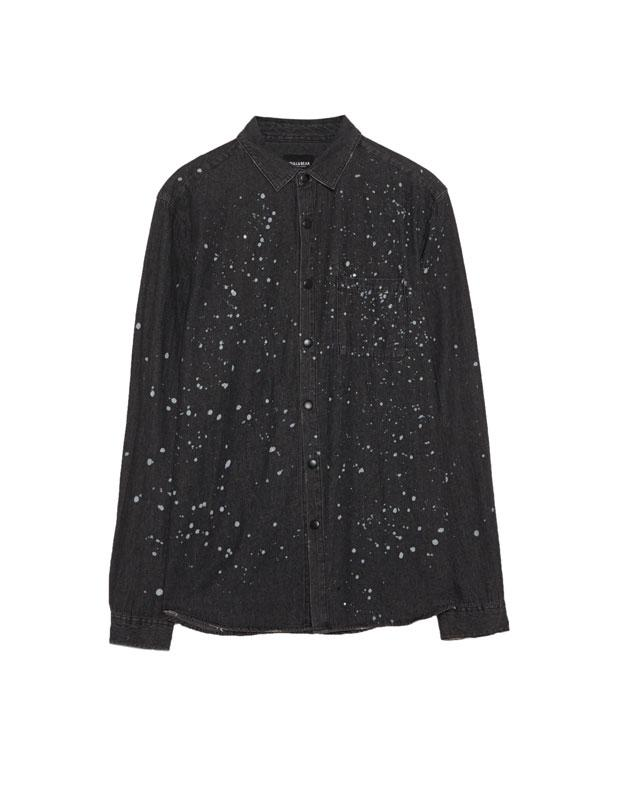teeshirt: (94, 106, 530, 675)
